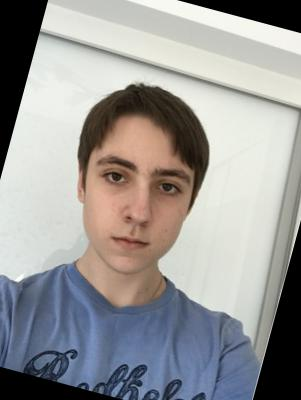without_mask: (67, 137, 201, 287)
